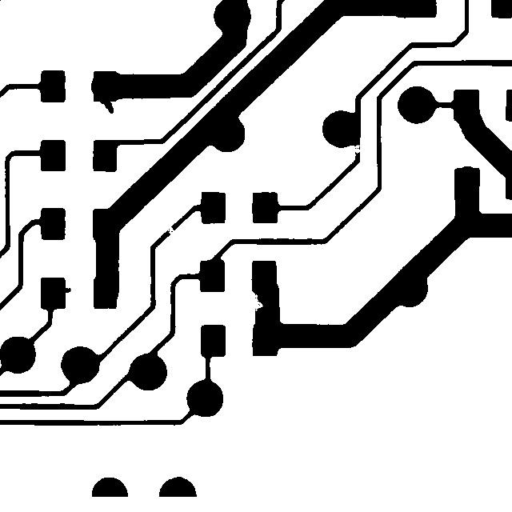mousebite: (244, 286, 270, 318)
open: (344, 137, 370, 161), (158, 219, 182, 242)
spur: (91, 90, 121, 121), (57, 280, 78, 300)
